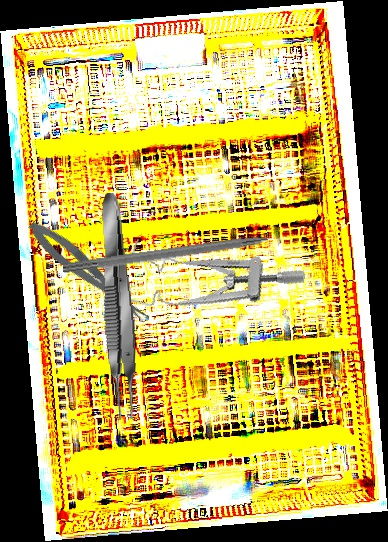Hook Surgical: (62, 229, 296, 277)
Micro Scissor: (22, 213, 154, 333)
Speculum: (116, 223, 308, 345)
Tissue Forceps: (94, 191, 143, 421)
